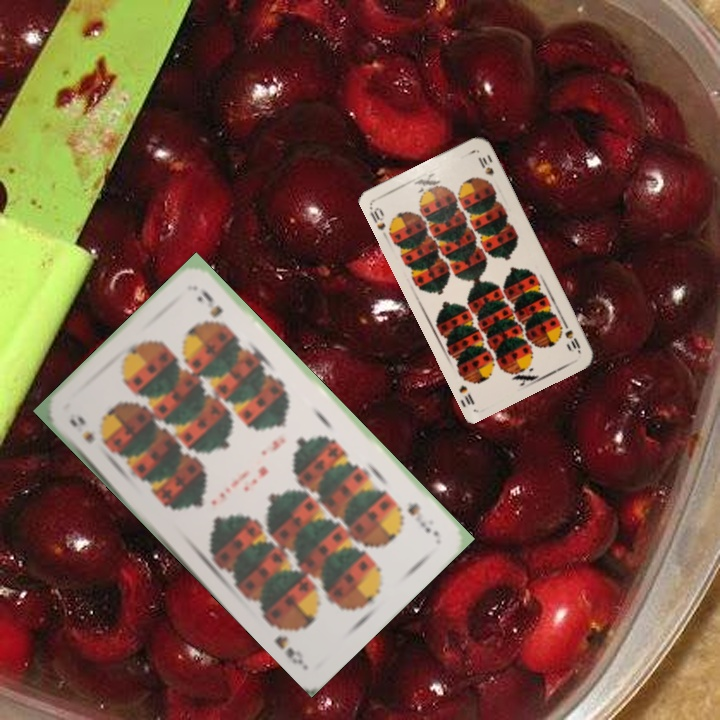S10: (559, 317, 583, 355), (366, 203, 388, 233)
S9: (403, 498, 442, 539), (65, 411, 97, 446)
